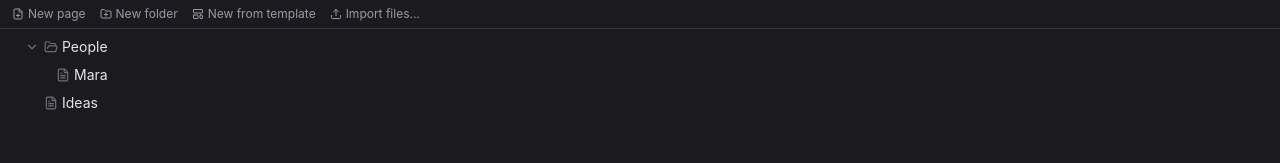
Test: the Notes tab › lists folders and pages, makes a page from the toolbar, and opens a page on click
Step 1. Click the text "Ideas" → (80, 102), box x1=62 y1=94 x2=98 y2=111
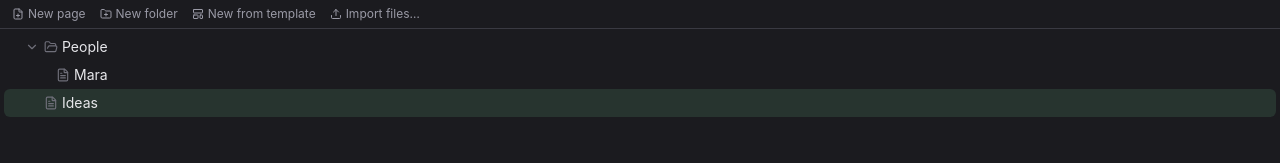
Step 2. Click the button "New page" → (49, 14), box x1=6 y1=4 x2=92 y2=24
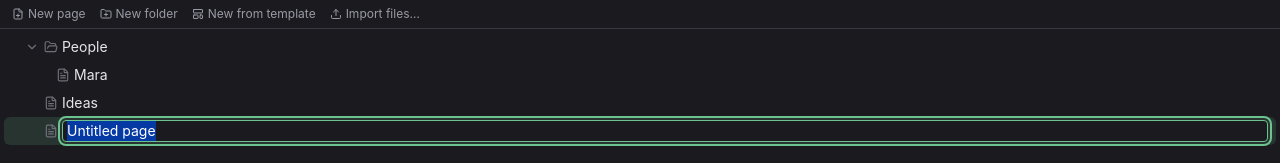
Step 3. Replace the text in the field named "Rename" with "Timeline" → (665, 131), box x1=62 y1=120 x2=1268 y2=142
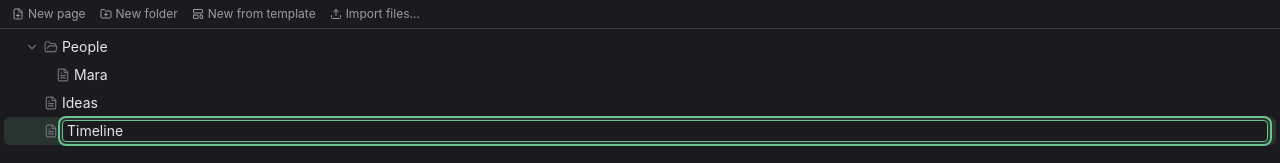
Step 4. Press Enter in the field named "Rename", box x1=62 y1=120 x2=1268 y2=142
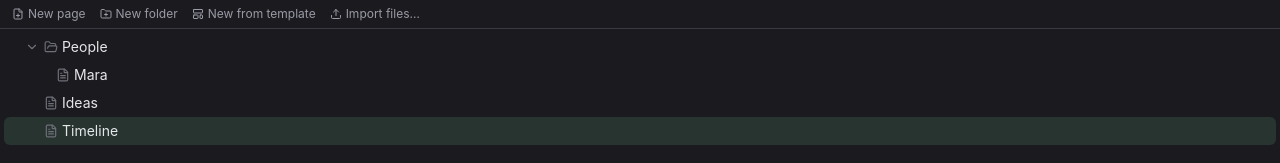
Now the list item "Timeline" is shown, box x1=4 y1=117 x2=1276 y2=145
